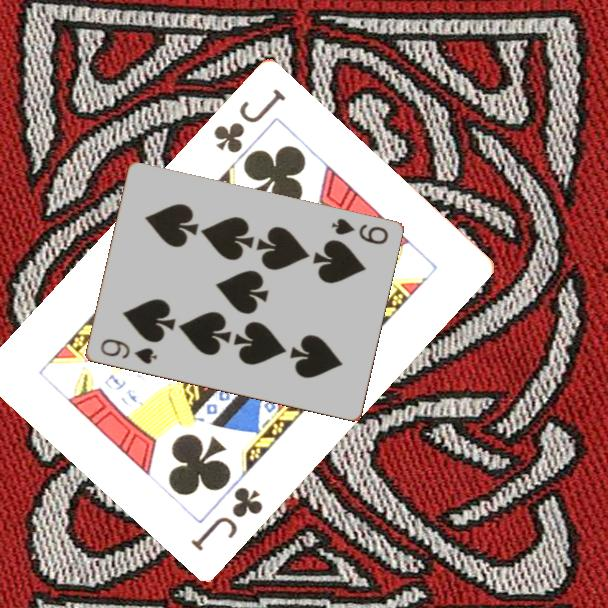c11: (210, 84, 289, 156), (187, 482, 266, 554)
s09: (328, 215, 391, 248), (96, 335, 160, 367)
